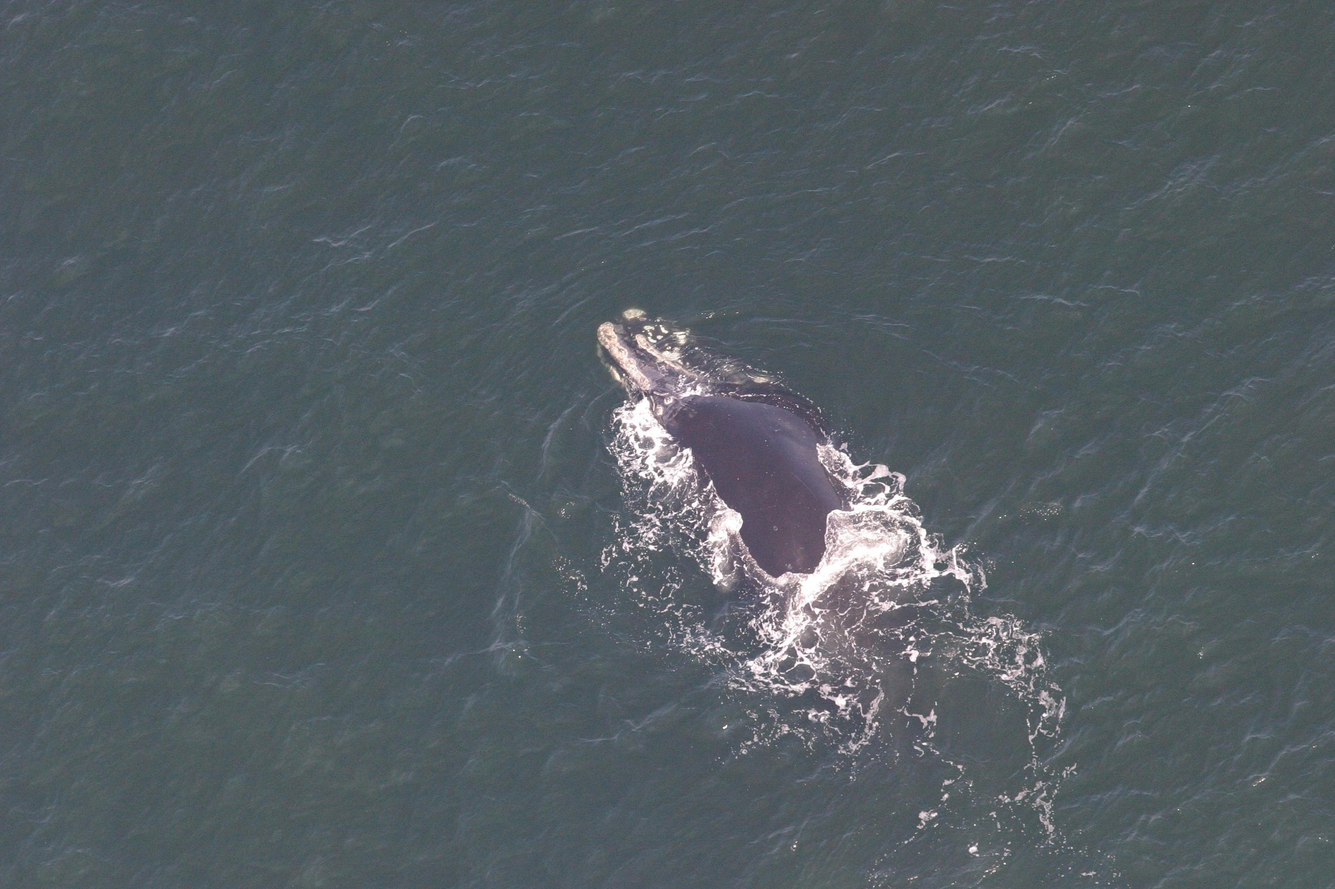whale: (586, 302, 935, 886)
